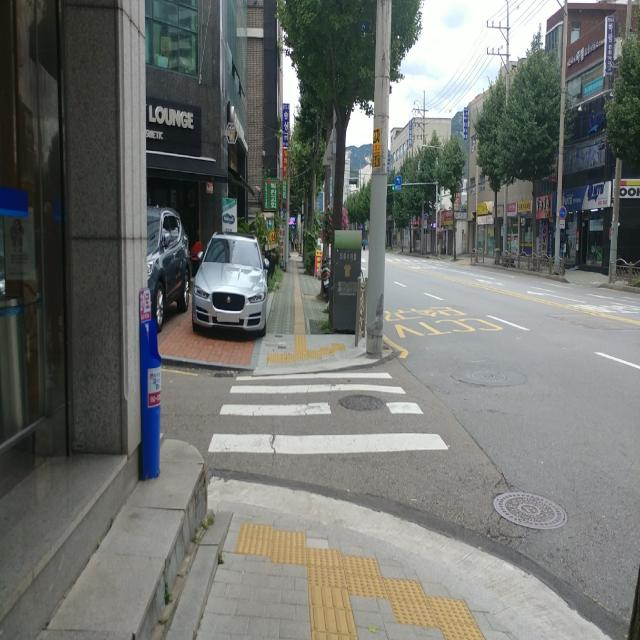횡단보도: (207, 370, 449, 455)
